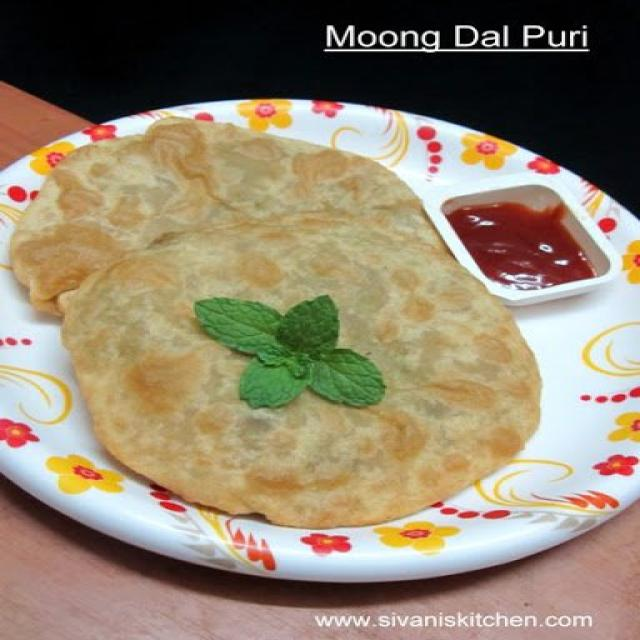puri: (10, 138, 509, 564)
